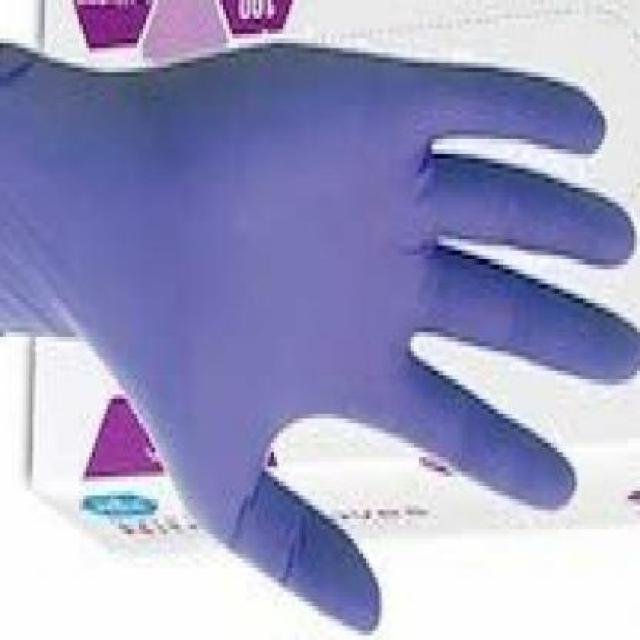gloved_hand: (3, 4, 640, 636)
